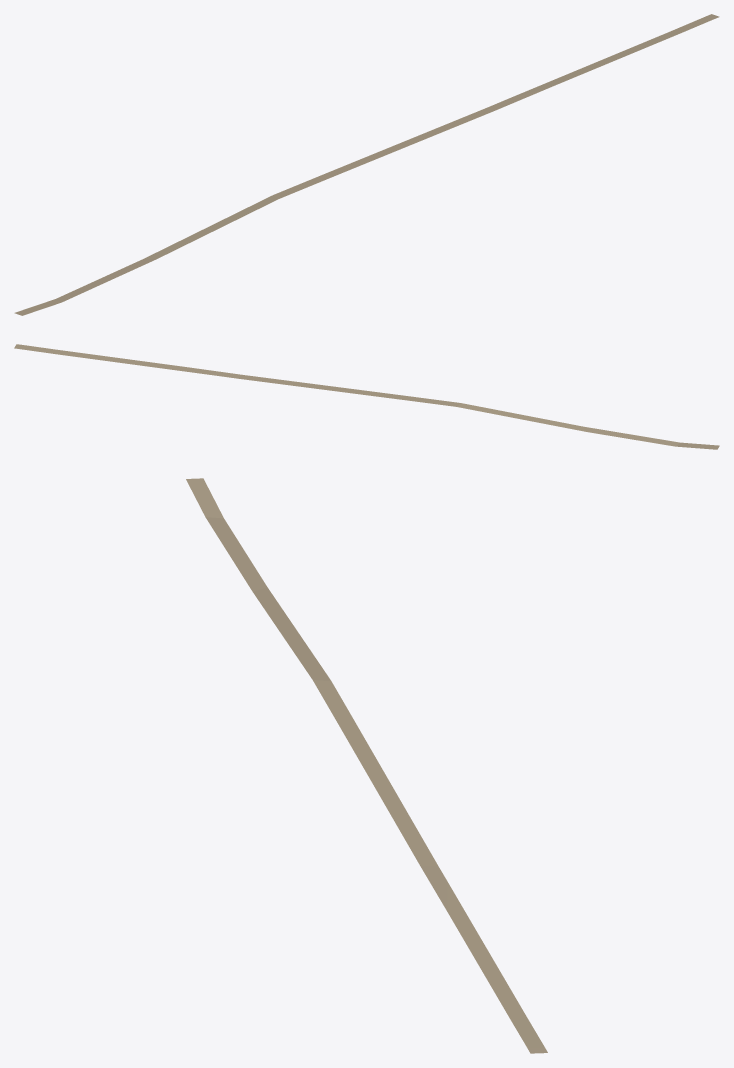
File: farm_-4_-1_track.glb
The picture shows the model from 3 angles, top to bottom: view 1: azimuth 30°, elevation 25°; view 2: azimuth 150°, elevation 25°; view 3: azimuth 270°, elevation 25°; orthographic projection. The views are drawn at different scales.
Parts seen in each view (by area): view 1: geometry_0; view 2: geometry_0; view 3: geometry_0.
Part boxes in pixels (left/top/right/bottom): geometry_0: left=14, top=14, right=719, bottom=315; geometry_0: left=14, top=344, right=719, bottom=449; geometry_0: left=186, top=478, right=547, bottom=1053.
Bounding box in the file's own units: 258 × 6.57 × 65.37.
